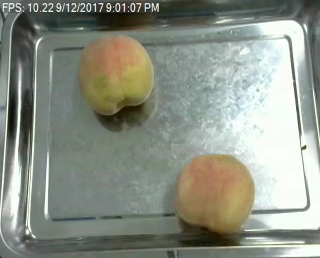Peach: (77, 32, 155, 115), (177, 153, 254, 235)
